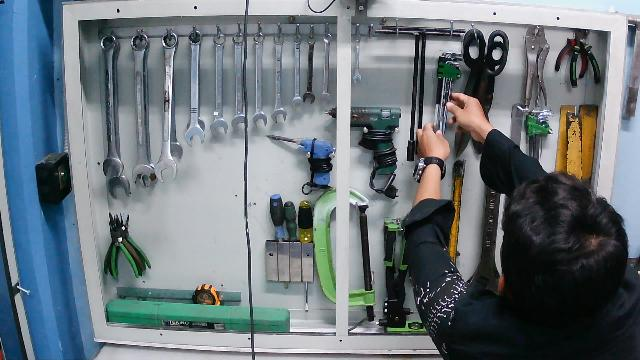kunci_l: (431, 46, 466, 161)
